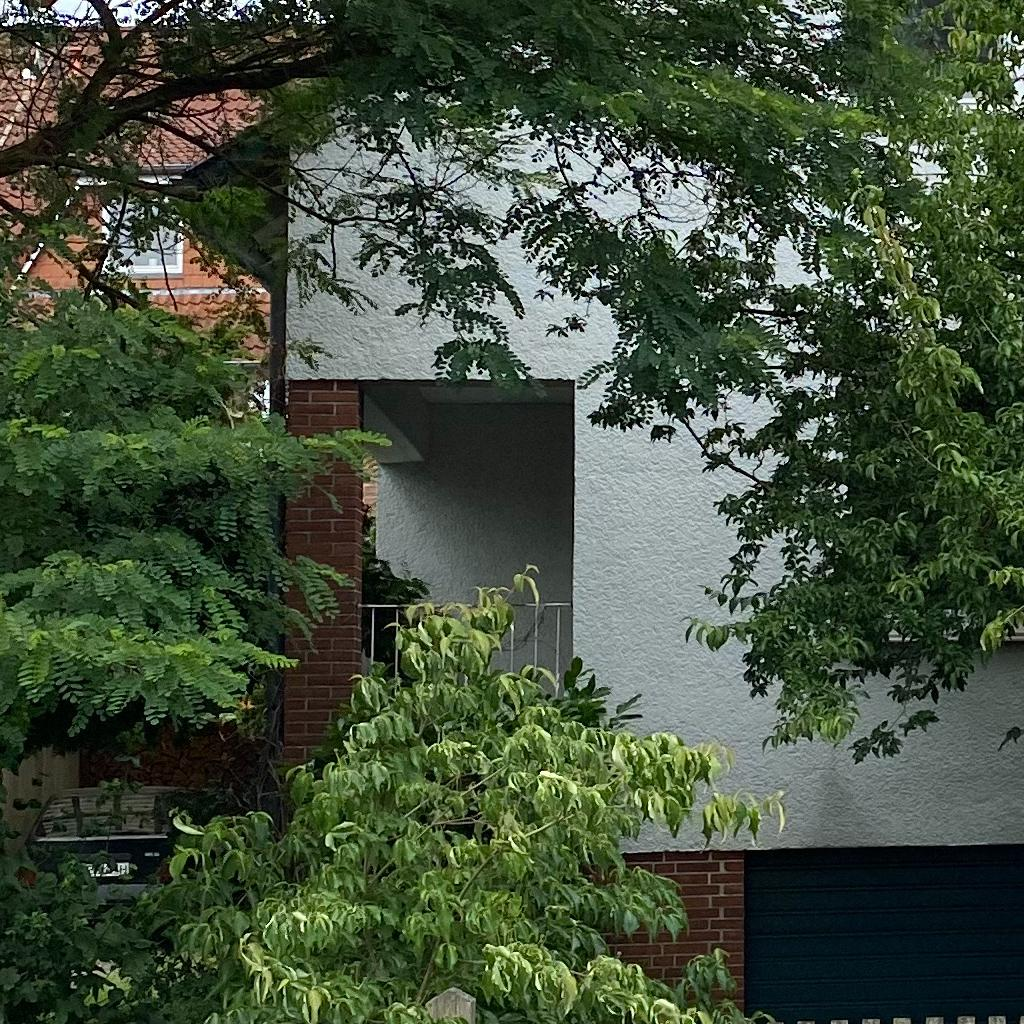tree: (1, 1, 886, 444), (676, 1, 1023, 764)
